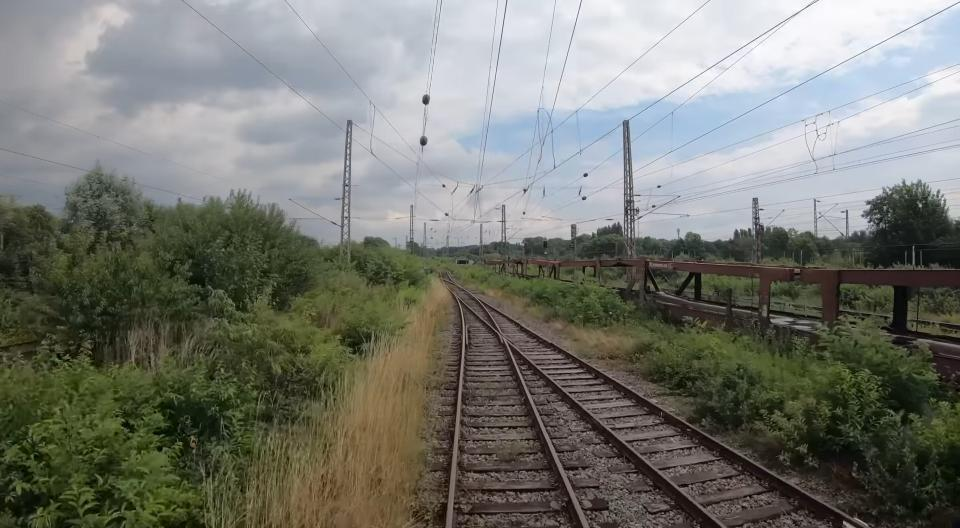Plant: (458, 269, 960, 526), (248, 280, 450, 528)
